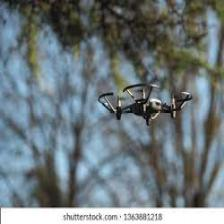drone: (97, 83, 192, 121)
